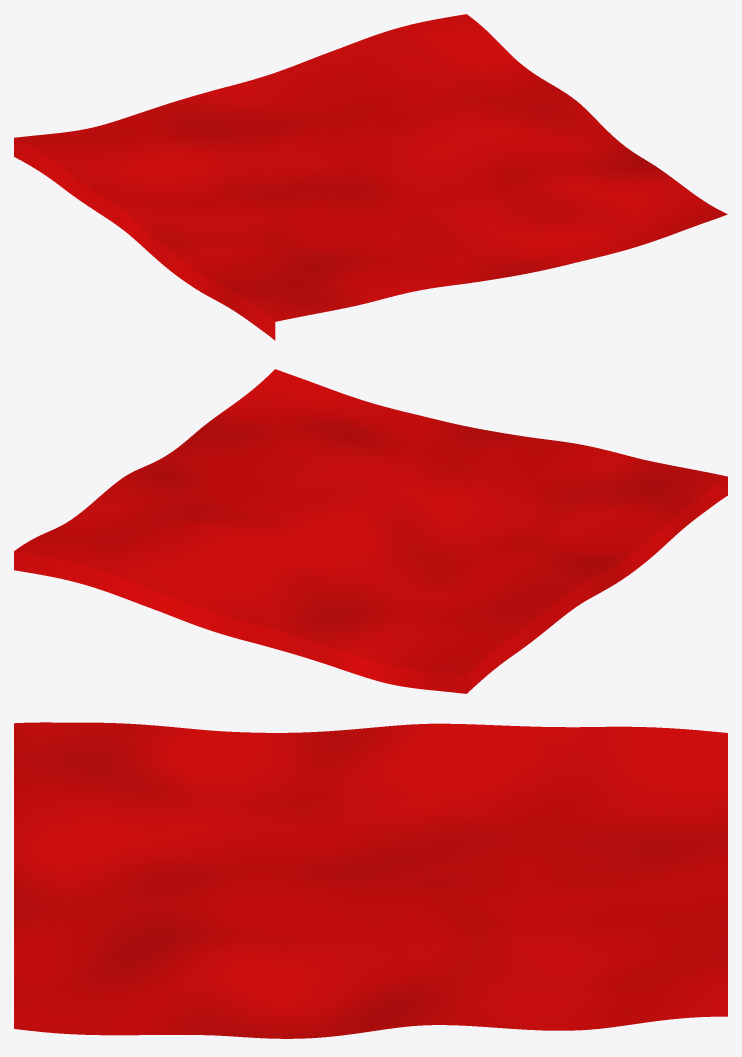
File: terrain_0_3.glb
The picture shows the model from 3 angles, top to bottom: view 1: azimuth 30°, elevation 25°; view 2: azimuth 150°, elevation 25°; view 3: azimuth 270°, elevation 25°; orthographic projection. The views are drawn at different scales.
Visible parts, largest first — view 1: terrain_0_3.0, terrain_0_3.1; view 2: terrain_0_3.0, terrain_0_3.1; view 3: terrain_0_3.0.
Part boxes in pixels (x1,y1,x2,y2): terrain_0_3.0: [14, 14, 727, 321]; terrain_0_3.1: [14, 138, 275, 340]; terrain_0_3.0: [14, 369, 727, 674]; terrain_0_3.1: [14, 477, 727, 693]; terrain_0_3.0: [14, 722, 727, 1038].
Bounding box in the file's own units: 50 × 4.67 × 50.
